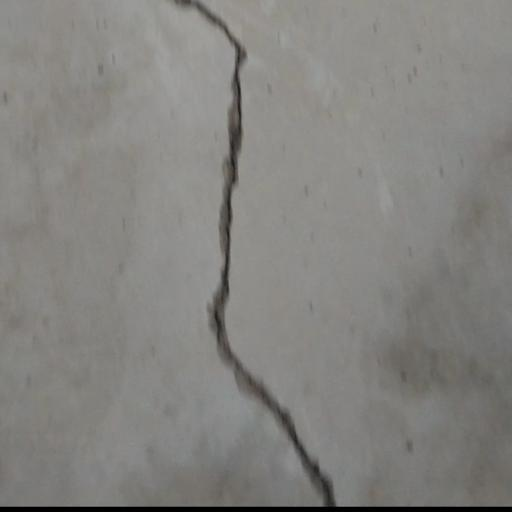major_crack: (177, 0, 350, 510)
